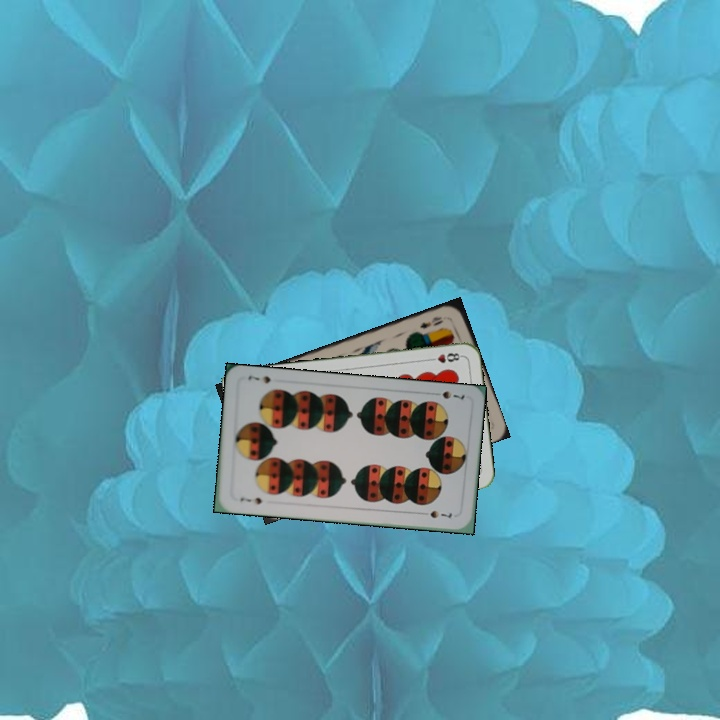EO: (416, 312, 446, 331)
H8: (424, 349, 464, 365)
S7: (428, 387, 467, 402), (236, 493, 264, 507)
